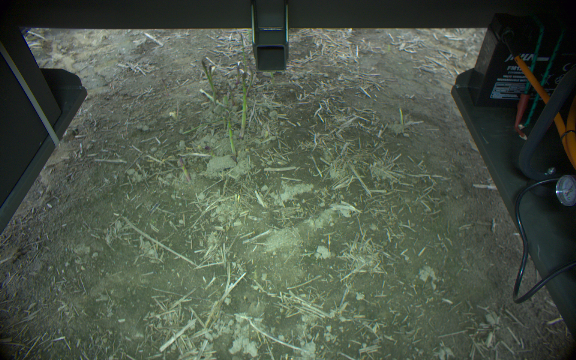aspa: (199, 58, 219, 103), (237, 70, 251, 129), (222, 113, 238, 157), (175, 157, 194, 184)
